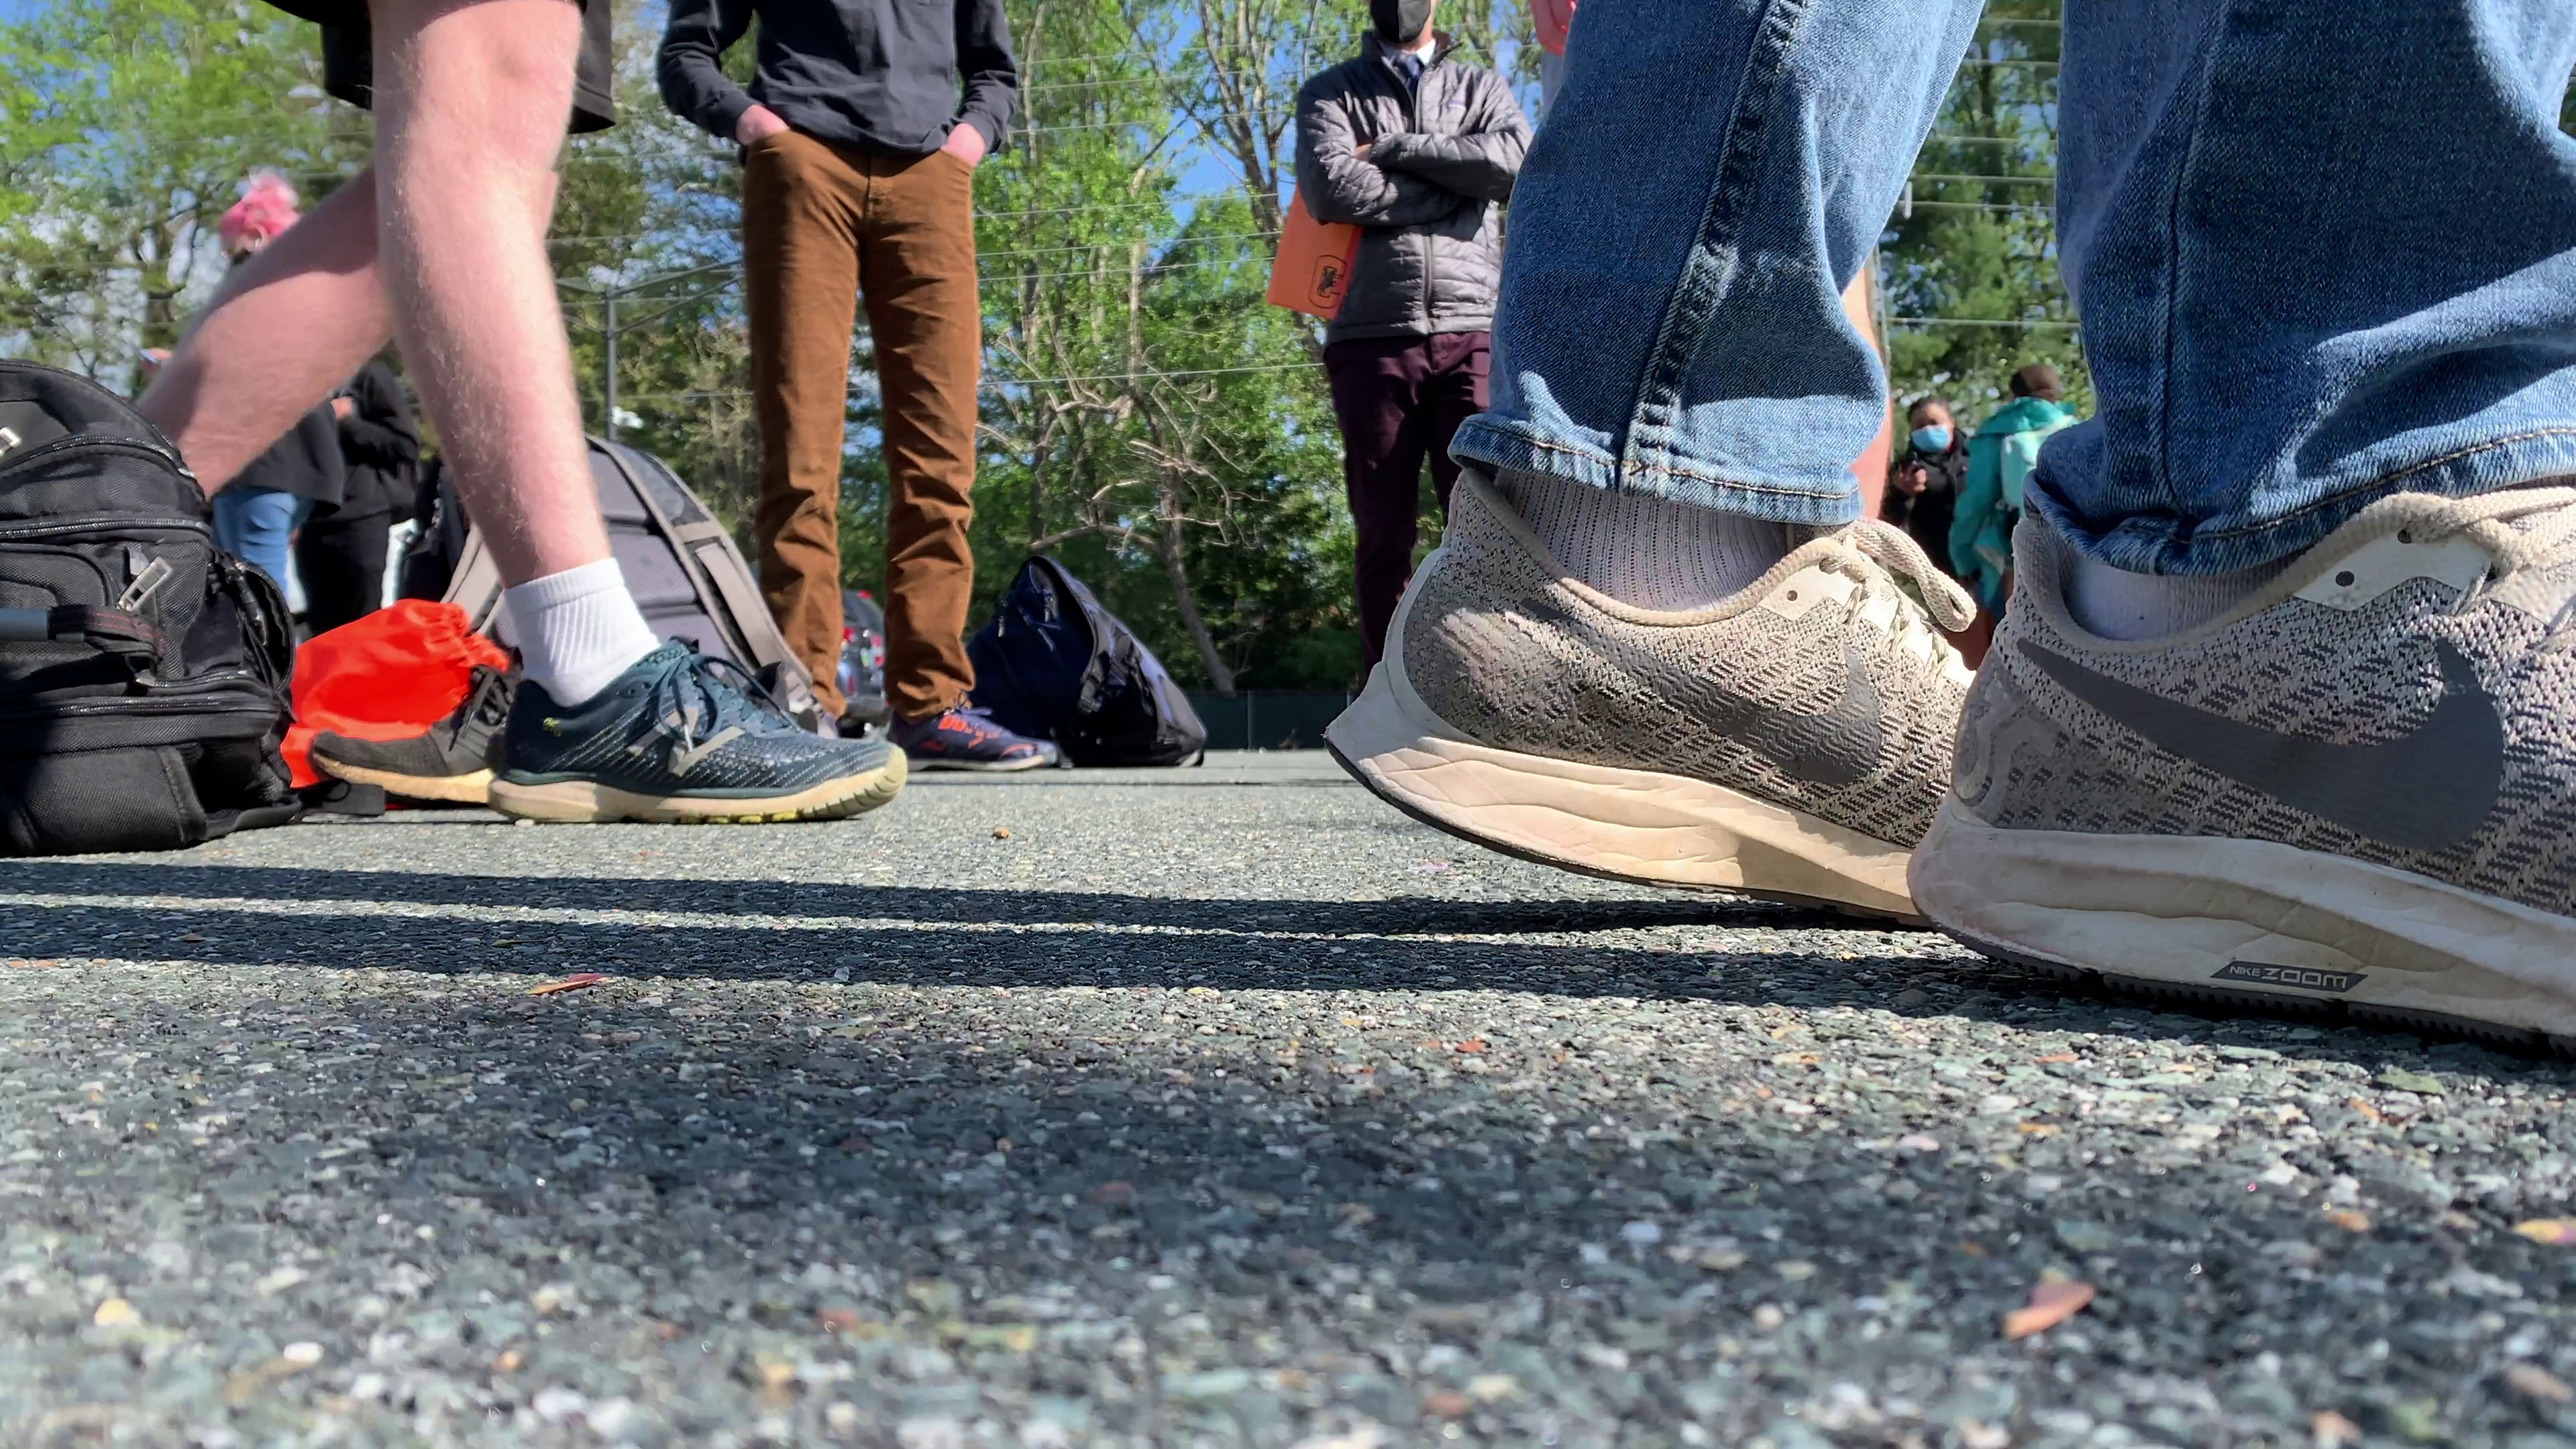shoe: (1323, 469, 2192, 925), (1907, 483, 2576, 1049), (488, 640, 908, 826), (308, 660, 632, 809), (879, 704, 1060, 775)
